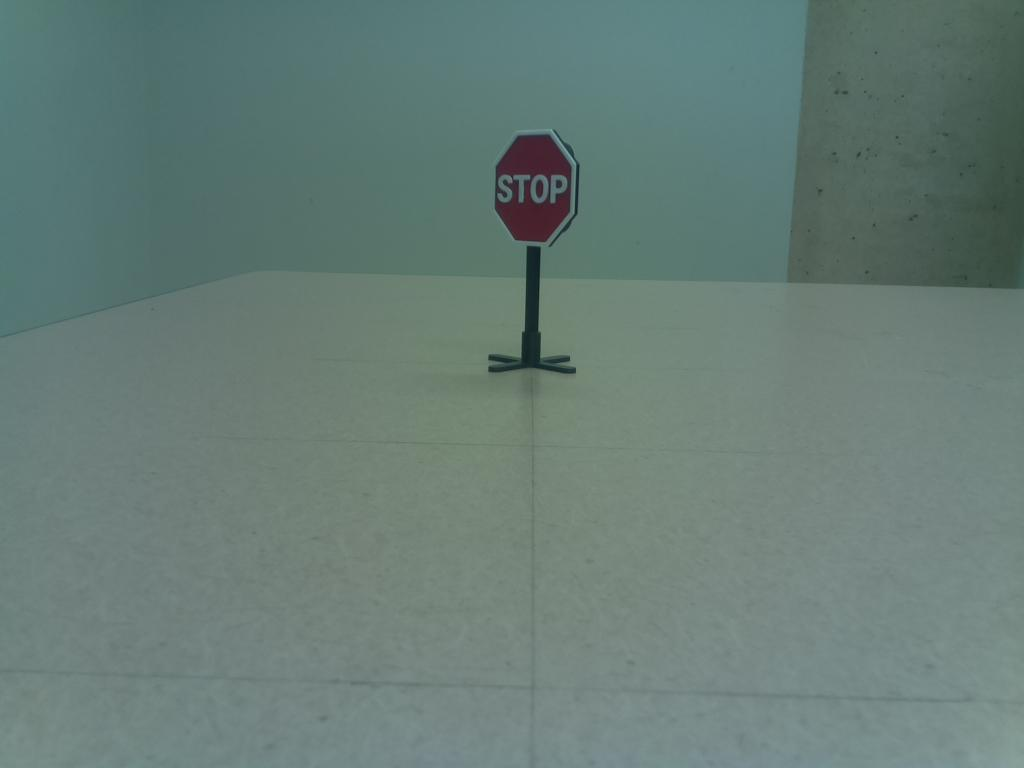sign_stop: (488, 125, 587, 250)
